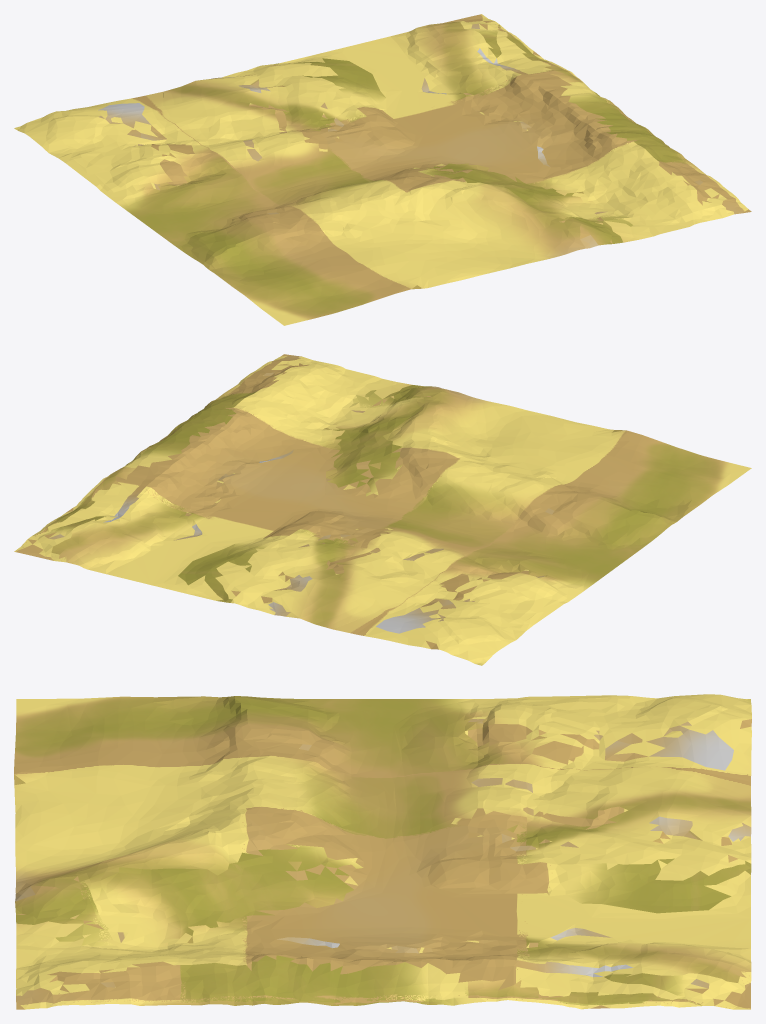
Rendered from NhaLand.fbx.
3 views of the same model, one above another, from view 1: azimuth 30°, elevation 25°; view 2: azimuth 150°, elevation 25°; view 3: azimuth 270°, elevation 25° (orthographic). The views are drawn at different scales.
Parts seen in each view (by area): view 1: NhaLand_Surface; view 2: NhaLand_Surface; view 3: NhaLand_Surface.
Boxes of the visible parts, <box> form: NhaLand_Surface: <box>14,14,751,325</box>; NhaLand_Surface: <box>14,354,751,665</box>; NhaLand_Surface: <box>14,694,751,1009</box>.
Size of the model in its own units: 7741 by 447 by 7746.
